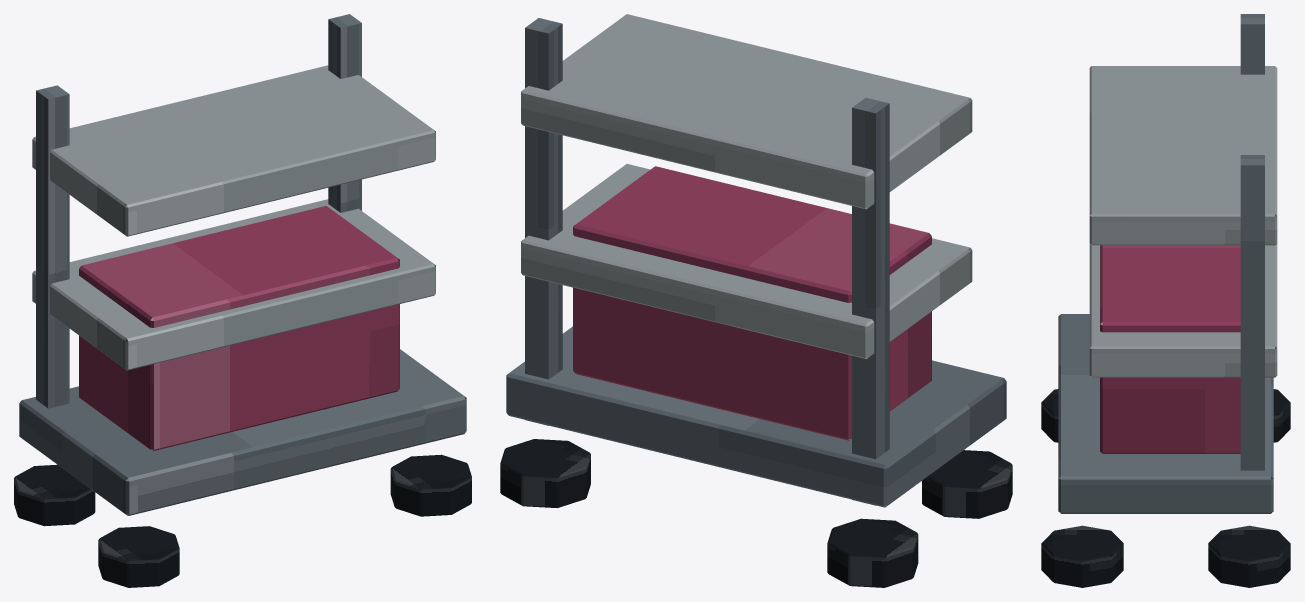
File: backstage_repair_stand.glb
3 renders of one model, left to right at view 1: azimuth 30°, elevation 25°; view 2: azimuth 150°, elevation 25°; view 3: azimuth 270°, elevation 25°, orthographic. The views are drawn at different scales.
Visible parts, largest first — view 1: ToolChest, Shelf_1.2, CartDeck, Shelf_0.78, Post_-0.48, Wheel_-0.48_-0.24, Wheel_0.48_-0.24, Wheel_-0.48_0.24, Post_0.48; view 2: ToolChest, Shelf_1.2, CartDeck, Shelf_0.78, Post_-0.48, Post_0.48, Wheel_-0.48_0.24, Wheel_0.48_0.24, Wheel_-0.48_-0.24; view 3: Shelf_1.2, ToolChest, CartDeck, Shelf_0.78, Post_0.48, Wheel_0.48_0.24, Wheel_0.48_-0.24, Post_-0.48, Wheel_-0.48_0.24, Wheel_-0.48_-0.24.
Boxes of the visible parts, bbox=[...] form: ToolChest: bbox=[79, 206, 399, 450]; Shelf_1.2: bbox=[32, 65, 435, 236]; CartDeck: bbox=[19, 349, 466, 515]; Shelf_0.78: bbox=[32, 199, 435, 370]; Post_-0.48: bbox=[36, 85, 69, 408]; Wheel_-0.48_-0.24: bbox=[98, 526, 179, 587]; Wheel_0.48_-0.24: bbox=[390, 454, 471, 516]; Wheel_-0.48_0.24: bbox=[14, 464, 95, 526]; Post_0.48: bbox=[328, 14, 361, 212]; ToolChest: bbox=[573, 166, 931, 440]; Shelf_1.2: bbox=[521, 14, 972, 209]; CartDeck: bbox=[506, 326, 1006, 507]; Shelf_0.78: bbox=[521, 164, 972, 358]; Post_-0.48: bbox=[852, 97, 889, 505]; Post_0.48: bbox=[525, 18, 562, 425]; Wheel_-0.48_0.24: bbox=[827, 518, 918, 587]; Wheel_0.48_0.24: bbox=[500, 439, 590, 508]; Wheel_-0.48_-0.24: bbox=[922, 450, 1012, 518]; Shelf_1.2: bbox=[1089, 66, 1277, 245]; ToolChest: bbox=[1100, 245, 1240, 453]; CartDeck: bbox=[1058, 314, 1273, 513]; Shelf_0.78: bbox=[1089, 244, 1277, 377]; Post_0.48: bbox=[1240, 155, 1264, 470]; Wheel_0.48_0.24: bbox=[1208, 525, 1290, 587]; Wheel_0.48_-0.24: bbox=[1041, 525, 1123, 587]; Post_-0.48: bbox=[1240, 14, 1264, 74]; Wheel_-0.48_0.24: bbox=[1273, 389, 1290, 442]; Wheel_-0.48_-0.24: bbox=[1041, 389, 1058, 442].
Bounding box in the file's own units: 1.2 × 1.31 × 0.7169.
1 material, 1 textured.
